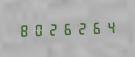eight: (17, 21, 30, 38)
four: (101, 18, 114, 35)
six: (59, 20, 72, 36), (87, 19, 100, 35)
two: (45, 20, 58, 37), (73, 19, 86, 36)
zero: (31, 21, 44, 37)
